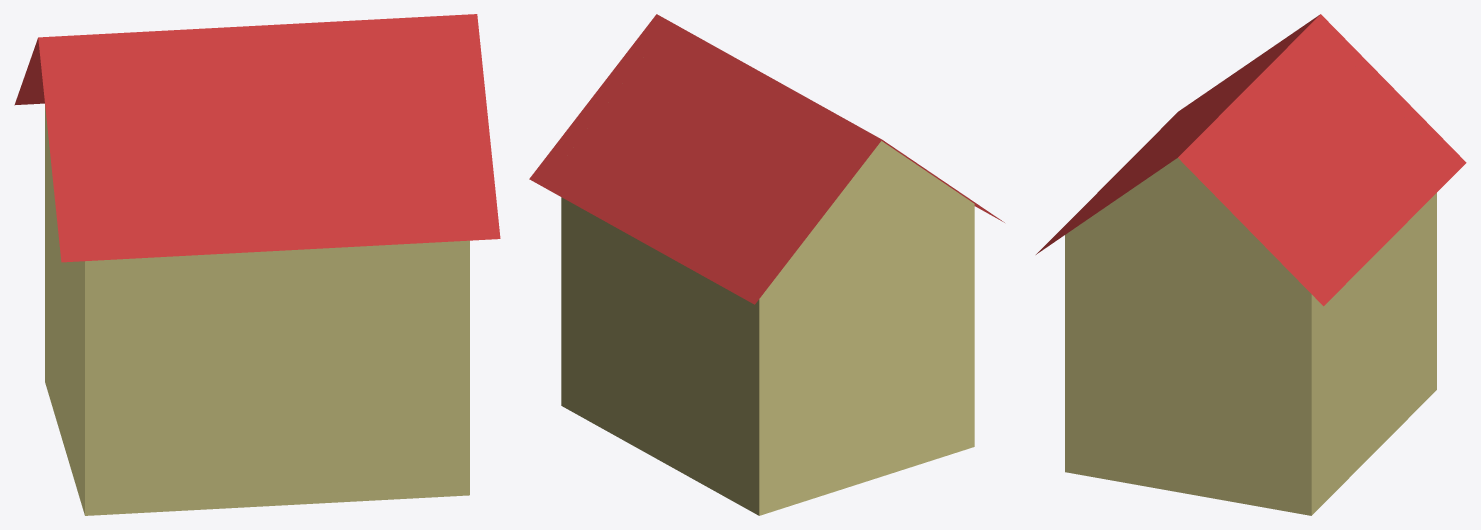
3 renders of one model, left to right at view 1: azimuth 30°, elevation 25°; view 2: azimuth 150°, elevation 25°; view 3: azimuth 270°, elevation 25°, orthographic. The views are drawn at different scales.
Bounding box in the file's own units: 15.25 × 14.25 × 12.58.
